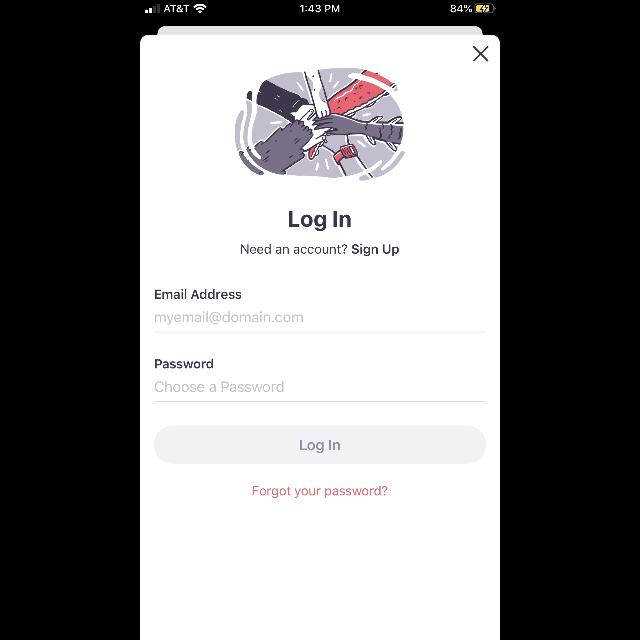icon: (474, 46, 488, 62)
image: (235, 68, 405, 180)
input: (154, 382, 486, 402), (154, 312, 486, 332)
text: (155, 311, 303, 325), (241, 244, 399, 256), (253, 486, 387, 498), (289, 210, 351, 232), (154, 382, 284, 392), (155, 289, 241, 299), (155, 358, 213, 368)
textbutton: (154, 426, 486, 464)
uppertaskbar: (140, 0, 500, 14)
